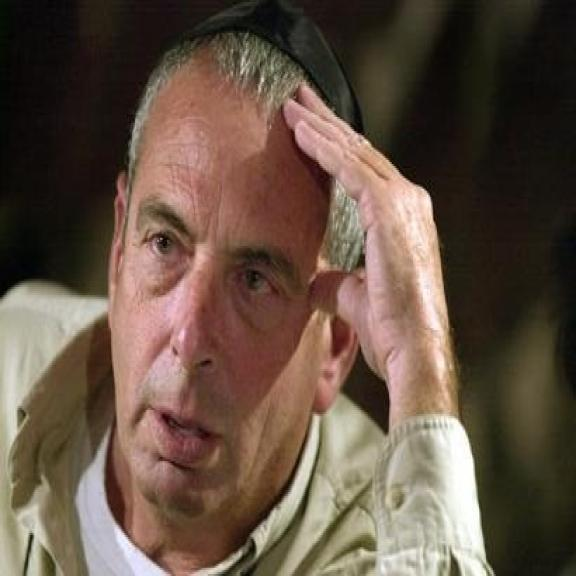face: (101, 35, 368, 532)
